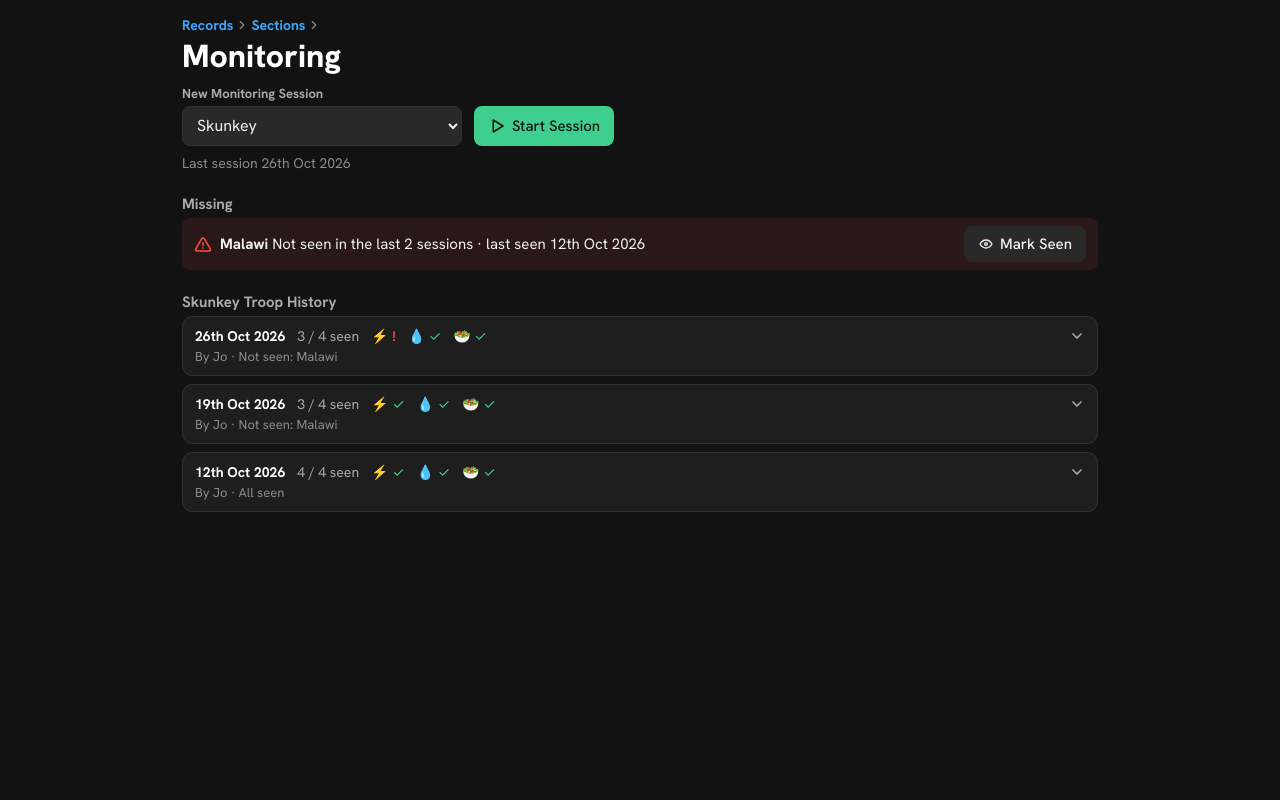
the History: tap a session for its summary again
The width and height of the screenshot is (1280, 800).
What coordinates should you click on to do the following:
click the button "26th Oct 2026 3 / 4 seen ⚡️ ! 💧 ✓ 🥗 ✓"
I would click on:
 (240, 336)
Its box is [195,327,1085,345].
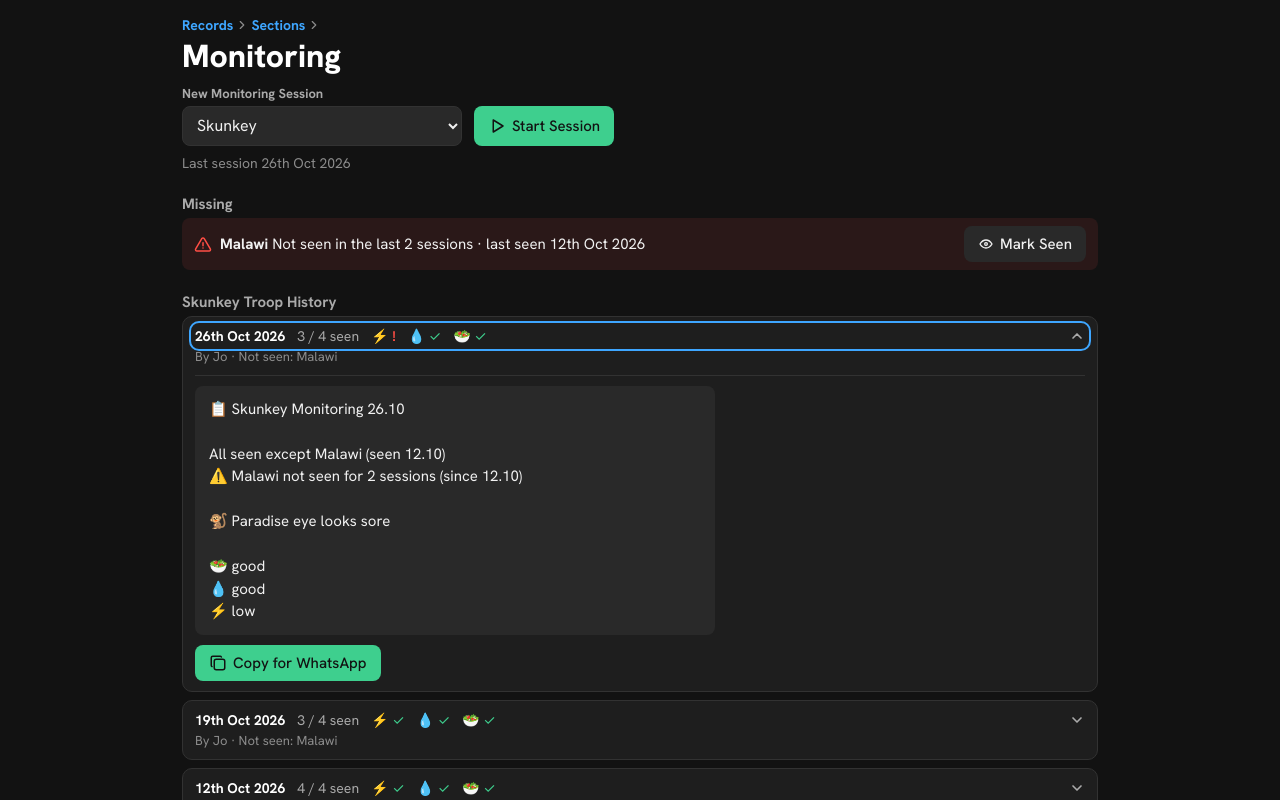
Now the text named "WhatsApp summary" shows "📋 Skunkey Monitoring 26.10", box [209,399,522,621]
Now the text named "WhatsApp summary" shows "All seen except Malawi (seen 12.10)", box [209,399,522,621]
